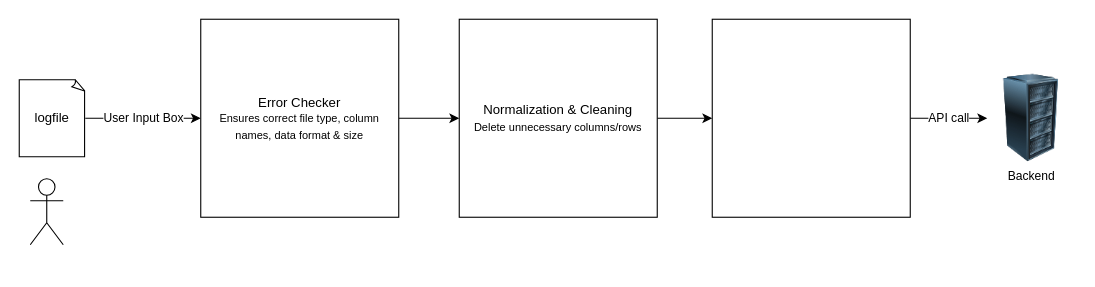
This 1095x287 diagram has some shape labels left out. Each missing label, with the centre of its shape:
"API prep Convert data to json object containing a list" goes at point 810,117.
"User" goes at point 46,211.
